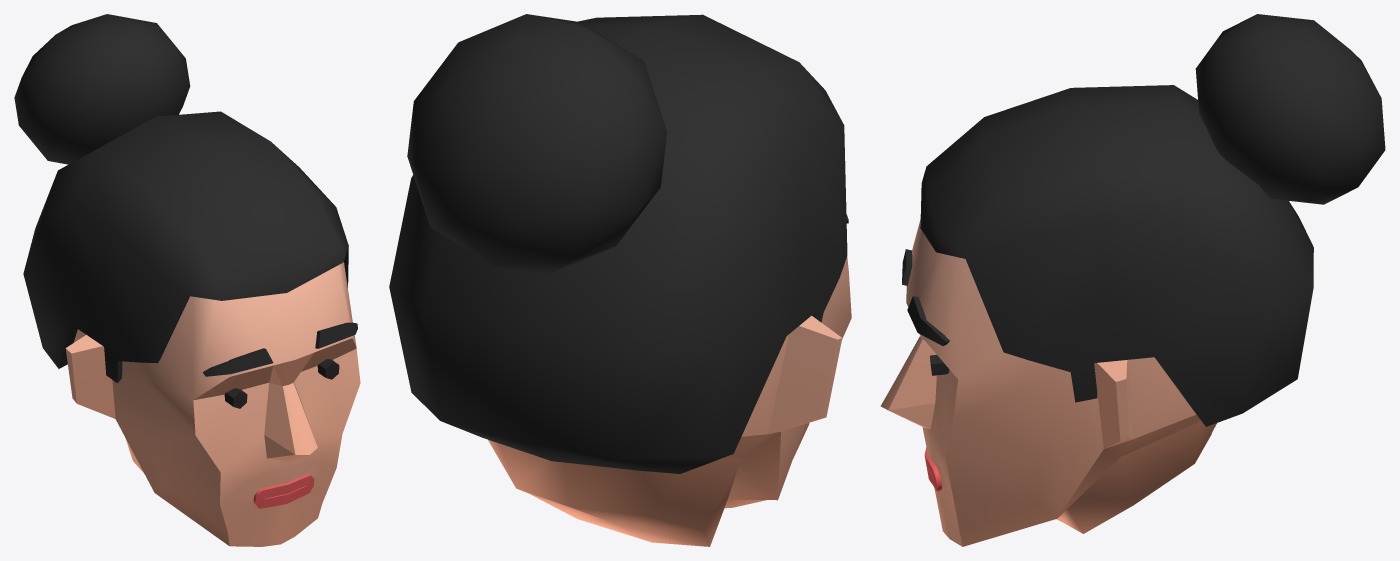
File: _F_Doctor_Head.fbx
The picture shows the model from 3 angles, left to right: view 1: azimuth 30°, elevation 25°; view 2: azimuth 150°, elevation 25°; view 3: azimuth 270°, elevation 25°; orthographic projection. The views are drawn at different scales.
Parts seen in each view (by area): view 1: _F_Doctor_Head; view 2: _F_Doctor_Head; view 3: _F_Doctor_Head.
Part boxes in pixels (box(x1,y1,x2,y2)): _F_Doctor_Head: box(14, 14, 360, 546); _F_Doctor_Head: box(389, 14, 851, 546); _F_Doctor_Head: box(880, 14, 1385, 546).
Size of the model in its own units: 21.96 by 32.71 by 30.59.
